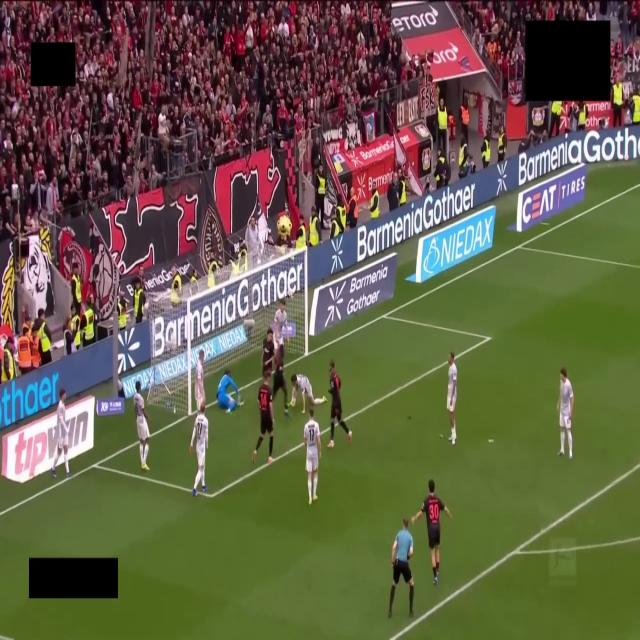player: (412, 480, 451, 584), (327, 360, 351, 447), (253, 375, 274, 463), (303, 408, 321, 504), (190, 401, 208, 495), (51, 389, 70, 478), (133, 381, 149, 471), (557, 368, 573, 458), (290, 375, 326, 413), (273, 346, 288, 415), (217, 370, 241, 413), (447, 352, 457, 445), (274, 300, 287, 350), (262, 328, 274, 376), (195, 350, 205, 407)
referee: (388, 519, 414, 617)
